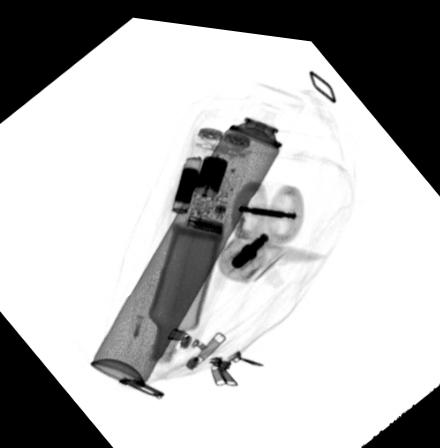Sprayer: (87, 72, 306, 382)
